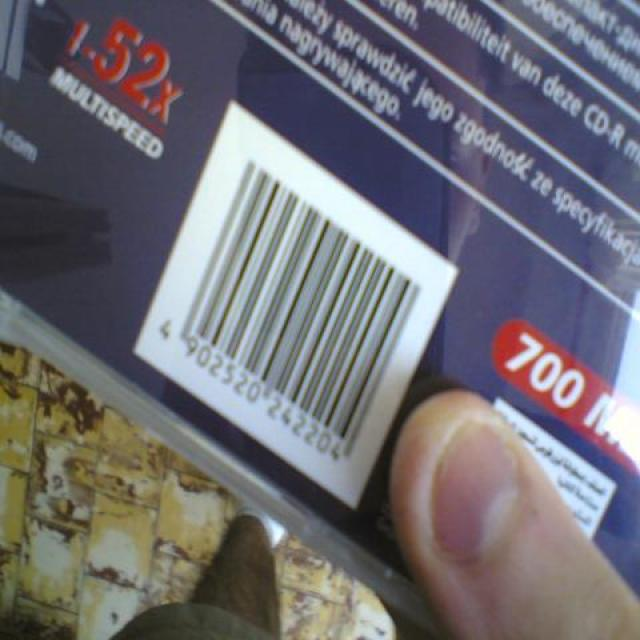Barcode: (128, 96, 460, 512)
